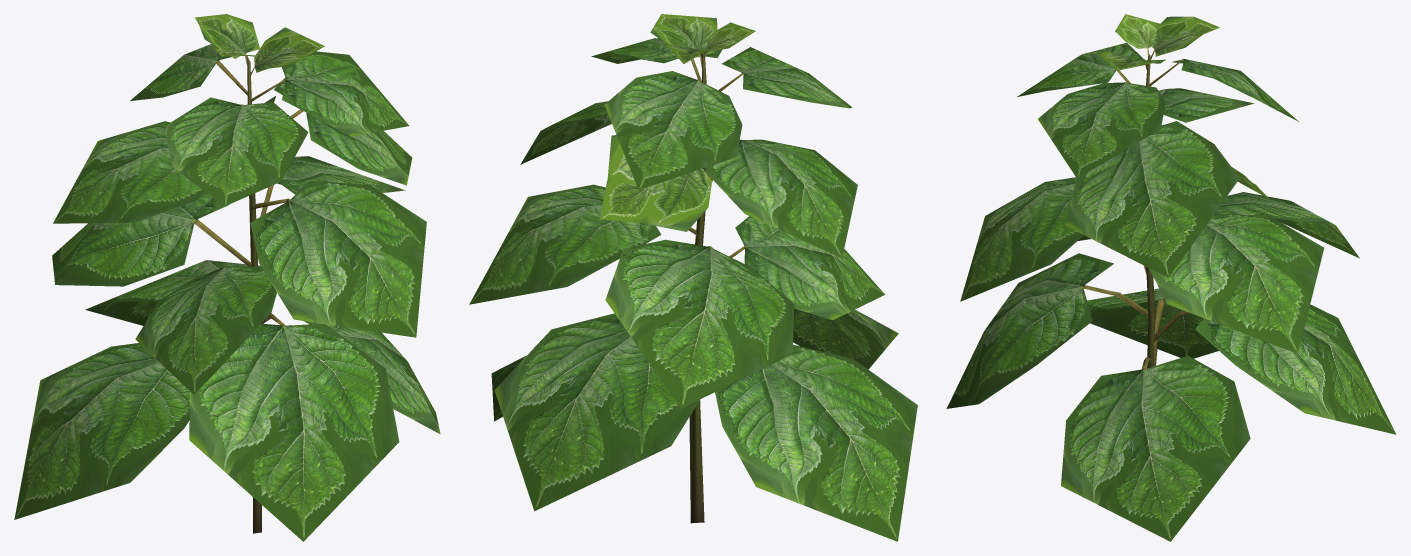
Rendered from plant_02.FBX.
3 renders of one model, left to right at view 1: azimuth 30°, elevation 25°; view 2: azimuth 150°, elevation 25°; view 3: azimuth 270°, elevation 25°, orthographic. The views are drawn at different scales.
Parts seen in each view (by area): view 1: Plant_02; view 2: Plant_02; view 3: Plant_02.
Boxes of the visible parts, left/top/right/bottom form: Plant_02: left=14, top=14, right=440, bottom=541; Plant_02: left=469, top=14, right=917, bottom=541; Plant_02: left=946, top=14, right=1396, bottom=541.
Size of the model in its own units: 91.4 by 105 by 89.6.
